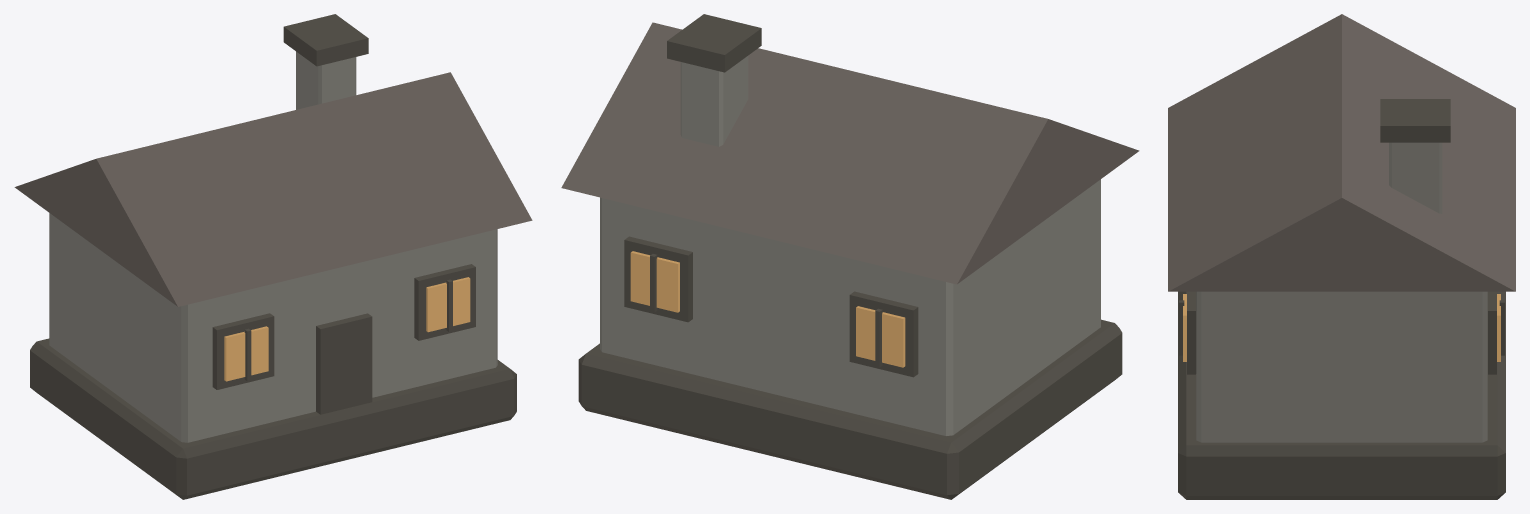
Rendered from house.glb.
3 renders of one model, left to right at view 1: azimuth 30°, elevation 25°; view 2: azimuth 150°, elevation 25°; view 3: azimuth 270°, elevation 25°, orthographic. The views are drawn at different scales.
Visible parts, largest first — view 1: Pitched roof, Plaster walls, Stone foundation, Wood door, Chimney cap, Chimney, Window frame.002, Window frame.003, Warm interior.002, Warm interior.003; view 2: Pitched roof, Plaster walls, Stone foundation, Chimney, Chimney cap, Window frame, Window frame.001, Warm interior, Warm interior.001; view 3: Pitched roof, Plaster walls, Stone foundation, Chimney, Chimney cap, Window frame.001, Window frame.003.
Boxes of the visible parts, bbox=[...] form: Pitched roof: bbox=[14, 72, 532, 306]; Plaster walls: bbox=[49, 213, 497, 442]; Stone foundation: bbox=[30, 338, 516, 499]; Wood door: bbox=[316, 313, 372, 414]; Chimney cap: bbox=[283, 14, 368, 66]; Chimney: bbox=[296, 51, 356, 109]; Window frame.002: bbox=[212, 313, 274, 389]; Window frame.003: bbox=[414, 264, 475, 340]; Warm interior.002: bbox=[224, 326, 268, 381]; Warm interior.003: bbox=[426, 277, 470, 332]; Pitched roof: bbox=[561, 22, 1139, 284]; Plaster walls: bbox=[600, 179, 1100, 435]; Stone foundation: bbox=[578, 319, 1122, 499]; Chimney: bbox=[680, 56, 748, 146]; Chimney cap: bbox=[667, 14, 761, 72]; Window frame: bbox=[849, 291, 918, 377]; Window frame.001: bbox=[624, 236, 692, 322]; Warm interior: bbox=[856, 306, 905, 367]; Warm interior.001: bbox=[630, 251, 679, 312]; Pitched roof: bbox=[1168, 14, 1515, 291]; Plaster walls: bbox=[1196, 291, 1487, 442]; Stone foundation: bbox=[1178, 291, 1505, 499]; Chimney: bbox=[1389, 142, 1442, 213]; Chimney cap: bbox=[1380, 99, 1450, 142]; Window frame.001: bbox=[1488, 291, 1496, 374]; Window frame.003: bbox=[1187, 291, 1195, 374].
Bounding box in the file's own units: 1.3 × 1.15 × 1.04.
